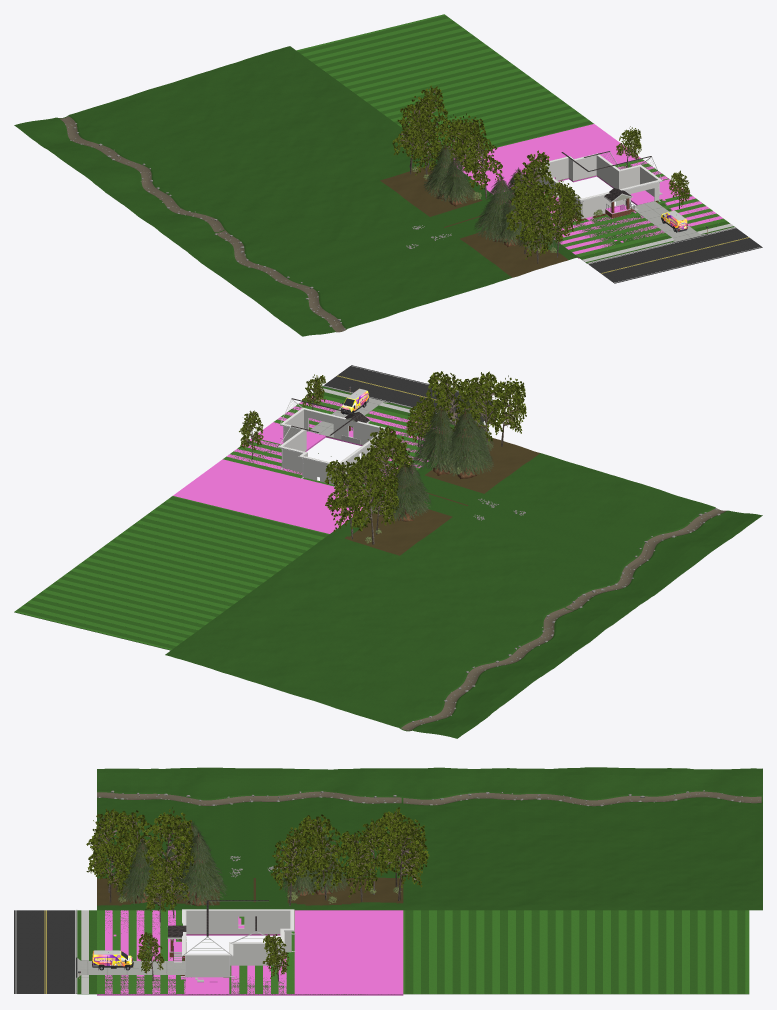
Rendered from house_site.glb.
3 views of the same model, one above another, from view 1: azimuth 30°, elevation 25°; view 2: azimuth 150°, elevation 25°; view 3: azimuth 270°, elevation 25° (orthographic). The views are drawn at different scales.
Visible parts, largest first — view 1: floor_terrain_west_spray, floor_terrain_west, site_mow_stripes_spray, floor_lot_spray, col_site, floor_street, site_mow_stripes, zone_backyard, floor_lot, site_dry_creek_bed_spray, zone_spray_field, site_forest_tree_3 (+17 smaller); view 2: floor_terrain_west_spray, floor_terrain_west, floor_lot_spray, site_mow_stripes_spray, zone_backyard, col_site, floor_street, site_mow_stripes, site_forest_pine_4, site_forest_tree_10, site_dry_creek_bed_spray, site_forest_pine_2 (+12 smaller); view 3: floor_terrain_west_spray, floor_terrain_west, floor_lot_spray, site_mow_stripes_spray, col_site, floor_street, zone_backyard, zone_spray_field, site_mow_stripes, zone_septic_field, site_forest_tree_4, site_dry_creek_bed_spray (+27 smaller).
Boxes of the visible parts, x1=… form: floor_terrain_west_spray: x1=14, y1=46, x2=439, y2=238; floor_terrain_west: x1=170, y1=162, x2=578, y2=336; site_mow_stripes_spray: x1=296, y1=14, x2=593, y2=152; floor_lot_spray: x1=298, y1=15, x2=592, y2=152; col_site: x1=510, y1=155, x2=723, y2=258; floor_street: x1=588, y1=228, x2=762, y2=283; site_mow_stripes: x1=504, y1=159, x2=726, y2=256; zone_backyard: x1=457, y1=124, x2=640, y2=194; floor_lot: x1=559, y1=162, x2=734, y2=263; site_dry_creek_bed_spray: x1=59, y1=116, x2=224, y2=231; zone_spray_field: x1=478, y1=136, x2=589, y2=185; site_forest_tree_3: x1=462, y1=131, x2=503, y2=198; floor_terrain_west_spray: x1=165, y1=534, x2=621, y2=738; floor_terrain_west: x1=330, y1=438, x2=762, y2=617; floor_lot_spray: x1=14, y1=496, x2=328, y2=650; site_mow_stripes_spray: x1=14, y1=496, x2=329, y2=650; zone_backyard: x1=173, y1=459, x2=371, y2=533; col_site: x1=226, y1=396, x2=436, y2=492; floor_street: x1=324, y1=365, x2=508, y2=421; site_mow_stripes: x1=223, y1=393, x2=453, y2=495; site_forest_pine_4: x1=438, y1=408, x2=493, y2=478; site_forest_tree_10: x1=347, y1=459, x2=392, y2=544; site_dry_creek_bed_spray: x1=401, y1=607, x2=574, y2=730; site_forest_pine_2: x1=413, y1=404, x2=461, y2=475; floor_terrain_west_spray: x1=403, y1=767, x2=762, y2=910; floor_terrain_west: x1=97, y1=767, x2=403, y2=910; floor_lot_spray: x1=403, y1=910, x2=748, y2=994; site_mow_stripes_spray: x1=403, y1=910, x2=749, y2=993; col_site: x1=97, y1=910, x2=403, y2=995; floor_street: x1=14, y1=910, x2=77, y2=993; zone_backyard: x1=294, y1=910, x2=403, y2=993; zone_spray_field: x1=304, y1=918, x2=383, y2=985; site_mow_stripes: x1=97, y1=910, x2=294, y2=993; zone_septic_field: x1=304, y1=915, x2=383, y2=947; site_forest_tree_4: x1=298, y1=814, x2=346, y2=900; site_dry_creek_bed_spray: x1=403, y1=791, x2=761, y2=806.
Size of the model in its own units: 87.25 by 19.74 by 116.
69 materials, 28 textured.
